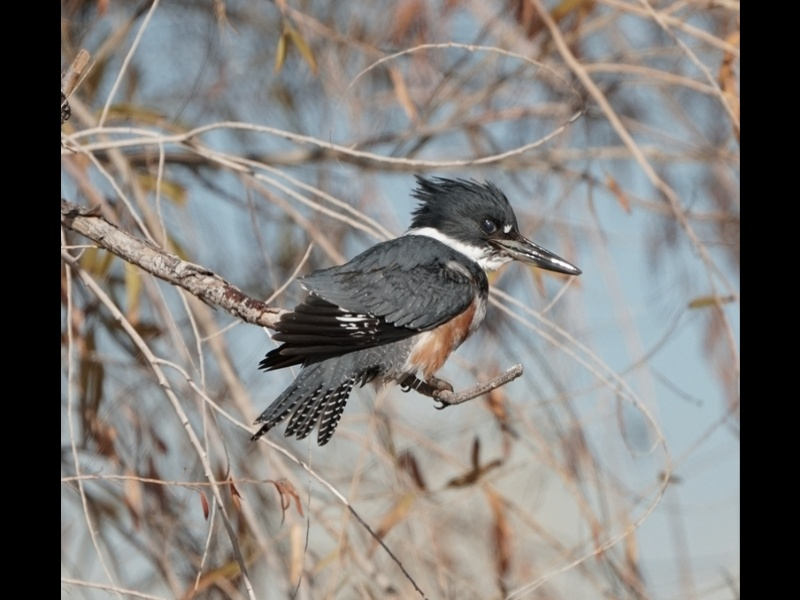kingfisher: (244, 174, 586, 451)
